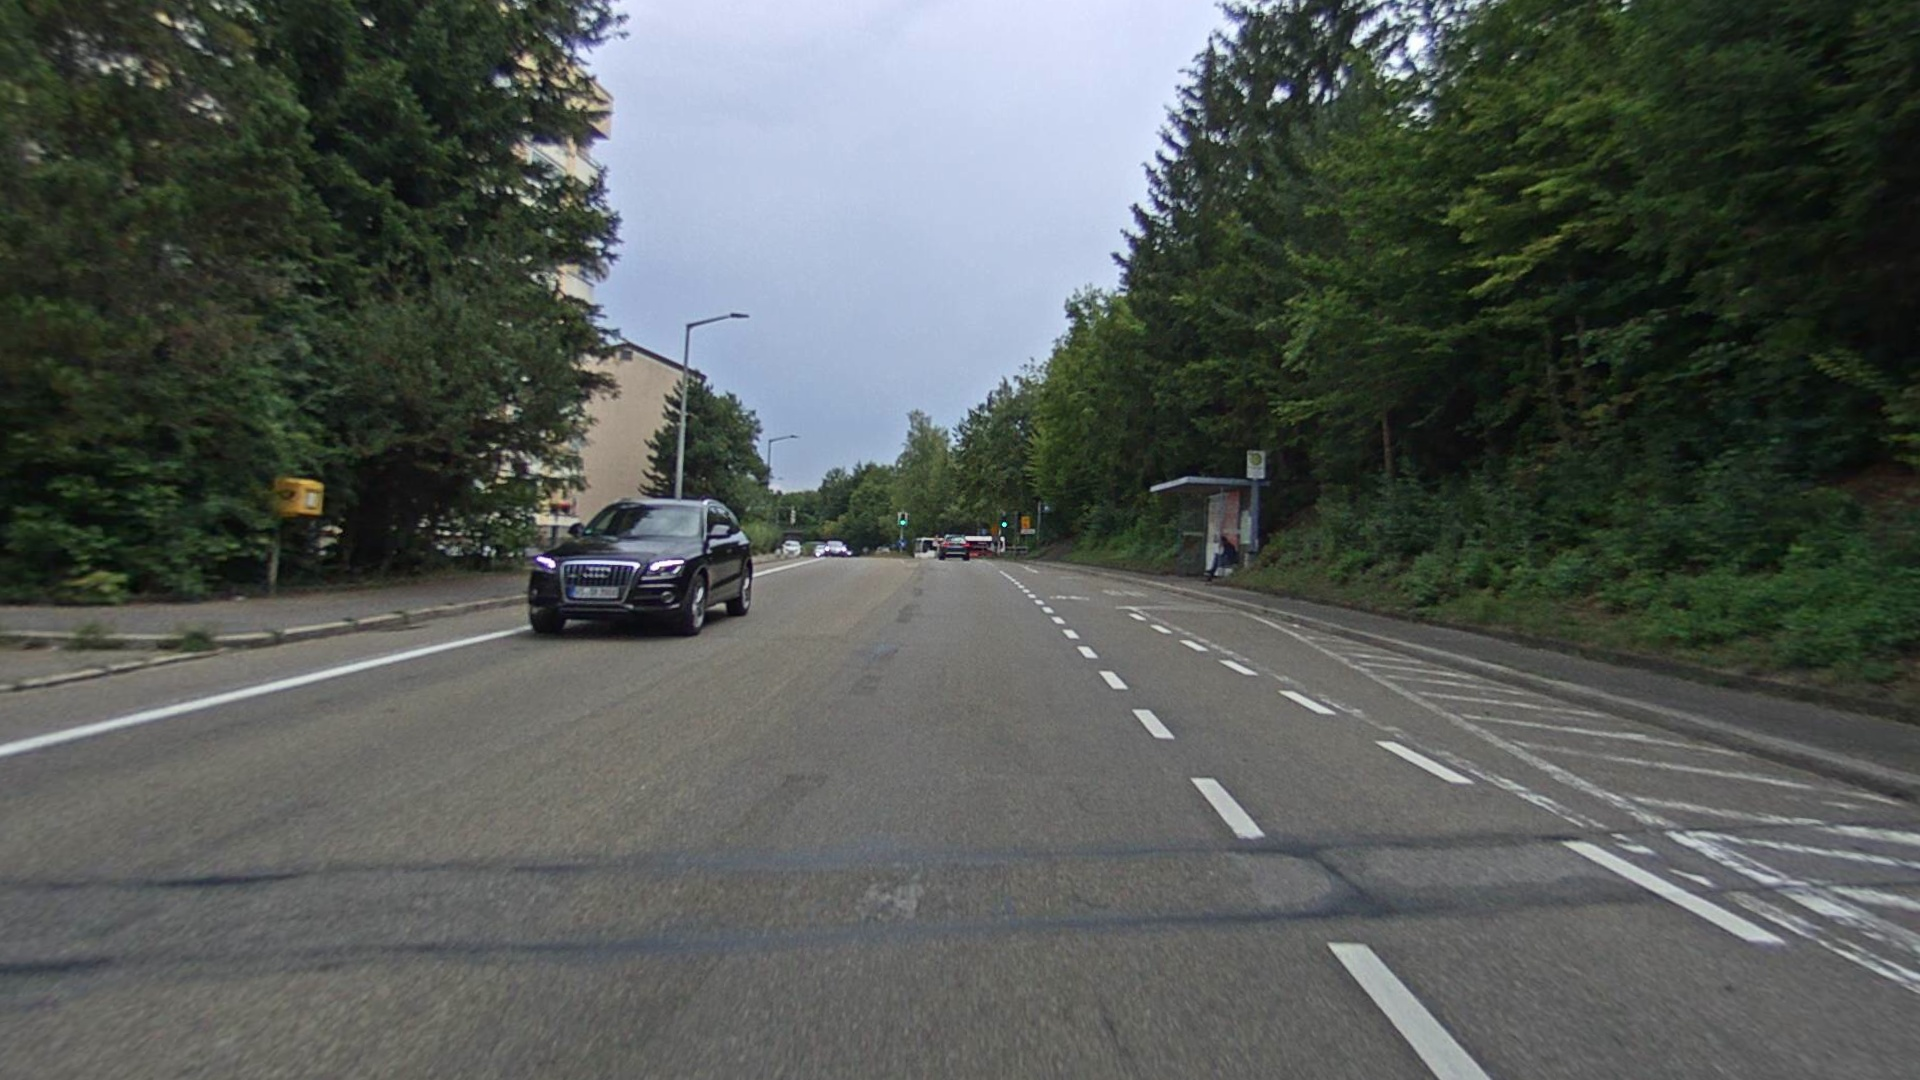car: (525, 495, 756, 638)
